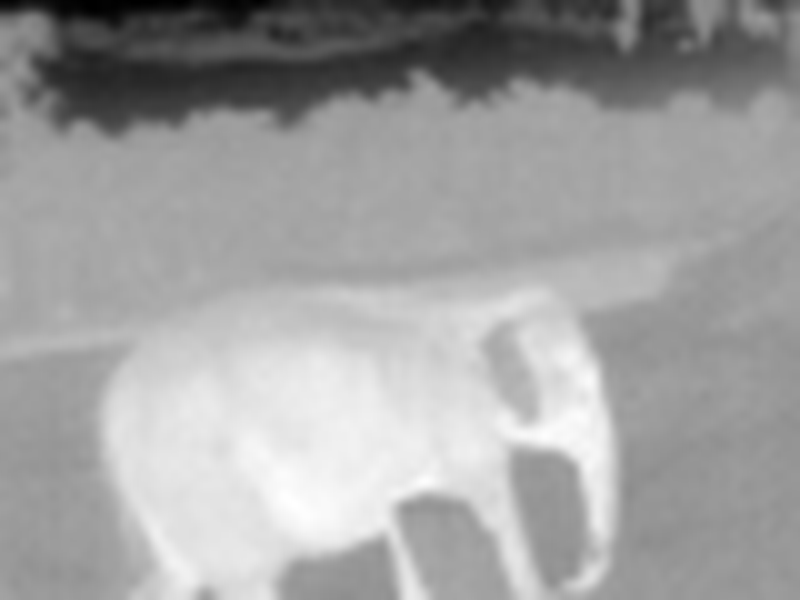elephant: (82, 287, 598, 600)
